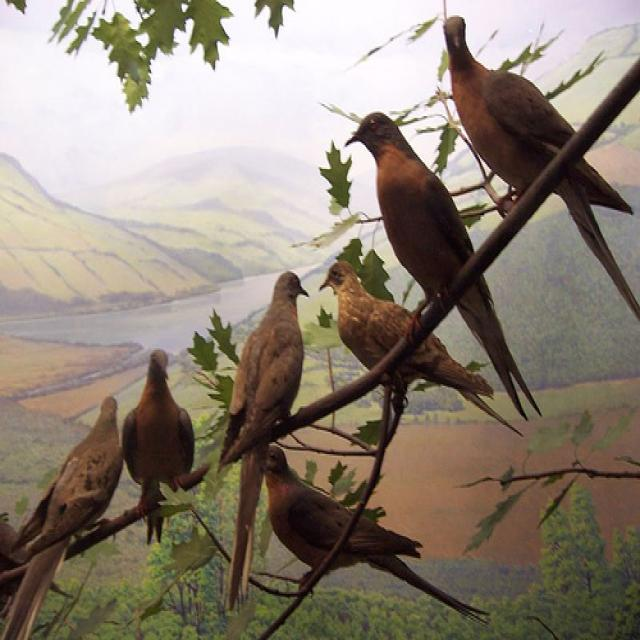bird: (343, 112, 544, 417), (445, 17, 640, 321), (267, 448, 486, 629), (320, 257, 522, 441), (214, 271, 310, 609), (1, 391, 126, 639), (124, 349, 194, 544)
